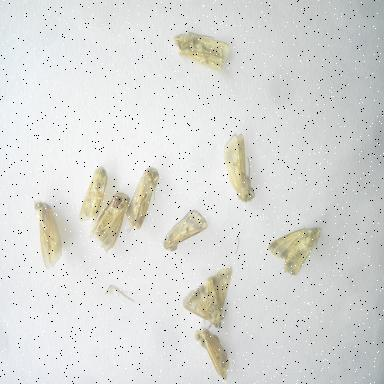abw: (181, 262, 235, 334), (86, 187, 134, 257), (266, 224, 324, 280), (171, 28, 233, 76), (221, 130, 258, 207), (122, 164, 162, 234), (30, 197, 66, 273), (188, 326, 235, 384), (159, 206, 211, 256), (72, 164, 110, 230)
